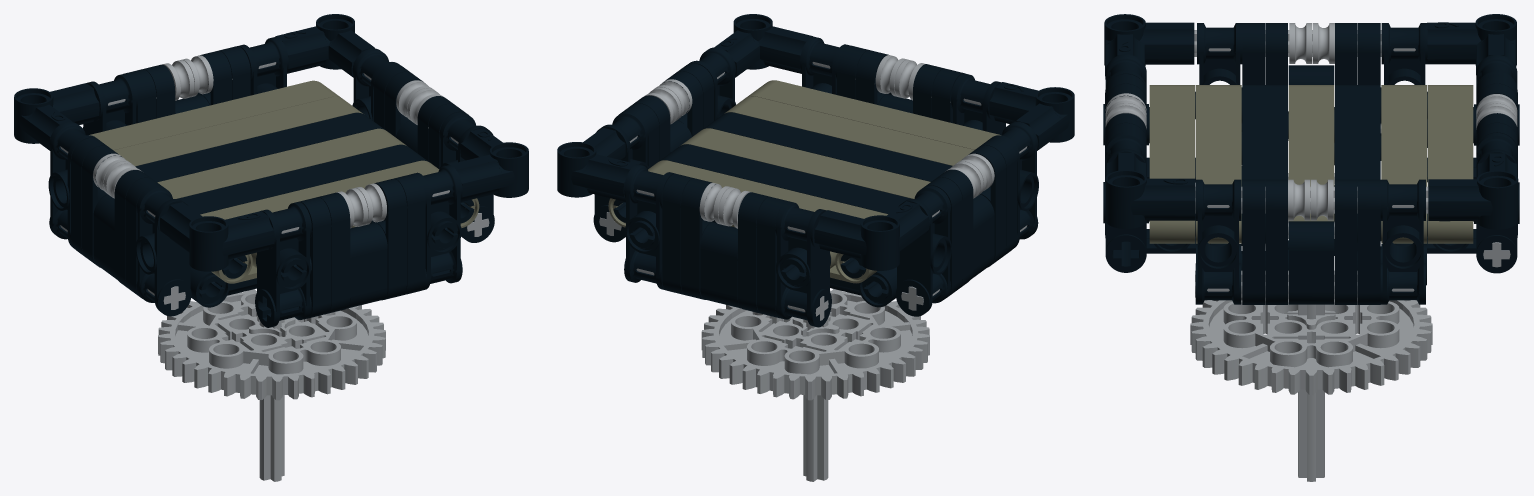
The model's file is Cradle.dae.
3 renders of one model, left to right at view 1: azimuth 30°, elevation 25°; view 2: azimuth 150°, elevation 25°; view 3: azimuth 270°, elevation 25°, orthographic. The views are drawn at different scales.
Visible parts, largest first — view 1: Inner-Node-Cradle-Copy-1, Inner-Node-Cradle-Top-Copy-73, Inner-Node-Cradle-Top-Copy-22, Inner-Node-Cradle-Top-Copy-25, Inner-Node-Cradle-Top-Copy-18, Inner-Node-Cradle-Top-Copy-35, Inner-Node-Cradle-Top-Copy-21, Inner-Node-Cradle-Top-Copy-34, Inner-Node-Cradle-Top-Copy-15, Inner-Node-Cradle-Top-Copy-51, Inner-Node-Cradle-Top-Copy-17, Inner-Node-Cradle-Top-Copy-74 (+38 smaller); view 2: Inner-Node-Cradle-Copy-1, Inner-Node-Cradle-Top-Copy-22, Inner-Node-Cradle-Top-Copy-21, Inner-Node-Cradle-Top-Copy-31, Inner-Node-Cradle-Top-Copy-17, Inner-Node-Cradle-Top-Copy-30, Inner-Node-Cradle-Top-Copy-25, Inner-Node-Cradle-Top-Copy-63, Inner-Node-Cradle-Top-Copy-14, Inner-Node-Cradle-Top-Copy-52, Inner-Node-Cradle-Top-Copy-18, Inner-Node-Cradle-Top-Copy-62 (+38 smaller); view 3: Inner-Node-Cradle-Copy-1, Inner-Node-Cradle-Top-Copy-35, Inner-Node-Cradle-Top-Copy-31, Inner-Node-Cradle-Top-Copy-48, Inner-Node-Cradle-Top-Copy-49, Inner-Node-Cradle-Top-Copy-51, Inner-Node-Cradle-Top-Copy-52, Inner-Node-Cradle-Top-Copy-34, Inner-Node-Cradle-Top-Copy-22, Inner-Node-Cradle-Top-Copy-30, Inner-Node-Cradle-Top-Copy-21, Inner-Node-Cradle-Top-Copy-25 (+33 smaller).
Part boxes in pixels (left/top/right/bottom): Inner-Node-Cradle-Copy-1: left=158, top=289, right=385, bottom=400; Inner-Node-Cradle-Top-Copy-73: left=255, top=202, right=311, bottom=327; Inner-Node-Cradle-Top-Copy-22: left=157, top=128, right=406, bottom=198; Inner-Node-Cradle-Top-Copy-25: left=177, top=144, right=428, bottom=214; Inner-Node-Cradle-Top-Copy-18: left=160, top=202, right=274, bottom=271; Inner-Node-Cradle-Top-Copy-35: left=89, top=80, right=340, bottom=150; Inner-Node-Cradle-Top-Copy-21: left=135, top=112, right=384, bottom=182; Inner-Node-Cradle-Top-Copy-34: left=114, top=96, right=362, bottom=166; Inner-Node-Cradle-Top-Copy-15: left=135, top=185, right=191, bottom=316; Inner-Node-Cradle-Top-Copy-51: left=449, top=128, right=528, bottom=201; Inner-Node-Cradle-Top-Copy-17: left=14, top=83, right=99, bottom=150; Inner-Node-Cradle-Top-Copy-74: left=411, top=165, right=462, bottom=290; Inner-Node-Cradle-Copy-1: left=701, top=289, right=929, bottom=400; Inner-Node-Cradle-Top-Copy-22: left=681, top=128, right=930, bottom=198; Inner-Node-Cradle-Top-Copy-21: left=659, top=144, right=912, bottom=214; Inner-Node-Cradle-Top-Copy-31: left=746, top=80, right=1000, bottom=149; Inner-Node-Cradle-Top-Copy-17: left=814, top=201, right=929, bottom=270; Inner-Node-Cradle-Top-Copy-30: left=724, top=96, right=974, bottom=165; Inner-Node-Cradle-Top-Copy-25: left=702, top=112, right=952, bottom=181; Inner-Node-Cradle-Top-Copy-63: left=775, top=201, right=831, bottom=327; Inner-Node-Cradle-Top-Copy-14: left=896, top=185, right=951, bottom=316; Inner-Node-Cradle-Top-Copy-52: left=557, top=127, right=636, bottom=201; Inner-Node-Cradle-Top-Copy-18: left=989, top=82, right=1074, bottom=150; Inner-Node-Cradle-Top-Copy-62: left=624, top=164, right=674, bottom=290; Inner-Node-Cradle-Copy-1: left=1190, top=297, right=1432, bottom=395; Inner-Node-Cradle-Top-Copy-35: left=1427, top=85, right=1473, bottom=243; Inner-Node-Cradle-Top-Copy-31: left=1149, top=85, right=1195, bottom=243; Inner-Node-Cradle-Top-Copy-48: left=1195, top=179, right=1241, bottom=304; Inner-Node-Cradle-Top-Copy-49: left=1380, top=179, right=1425, bottom=304; Inner-Node-Cradle-Top-Copy-51: left=1105, top=152, right=1195, bottom=228; Inner-Node-Cradle-Top-Copy-52: left=1428, top=153, right=1518, bottom=229; Inner-Node-Cradle-Top-Copy-34: left=1381, top=85, right=1426, bottom=243; Inner-Node-Cradle-Top-Copy-22: left=1288, top=85, right=1334, bottom=221; Inner-Node-Cradle-Top-Copy-30: left=1196, top=85, right=1241, bottom=243; Inner-Node-Cradle-Top-Copy-21: left=1335, top=85, right=1380, bottom=243; Inner-Node-Cradle-Top-Copy-25: left=1242, top=85, right=1287, bottom=243.
Bounding box in the file's own units: 180 × 179 × 180.
